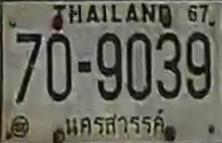0: (46, 33, 71, 101), (126, 32, 151, 100)
3: (155, 32, 181, 98)
7: (15, 32, 41, 102)
9: (96, 32, 121, 100), (186, 30, 210, 98)
NSN: (60, 107, 168, 140)
